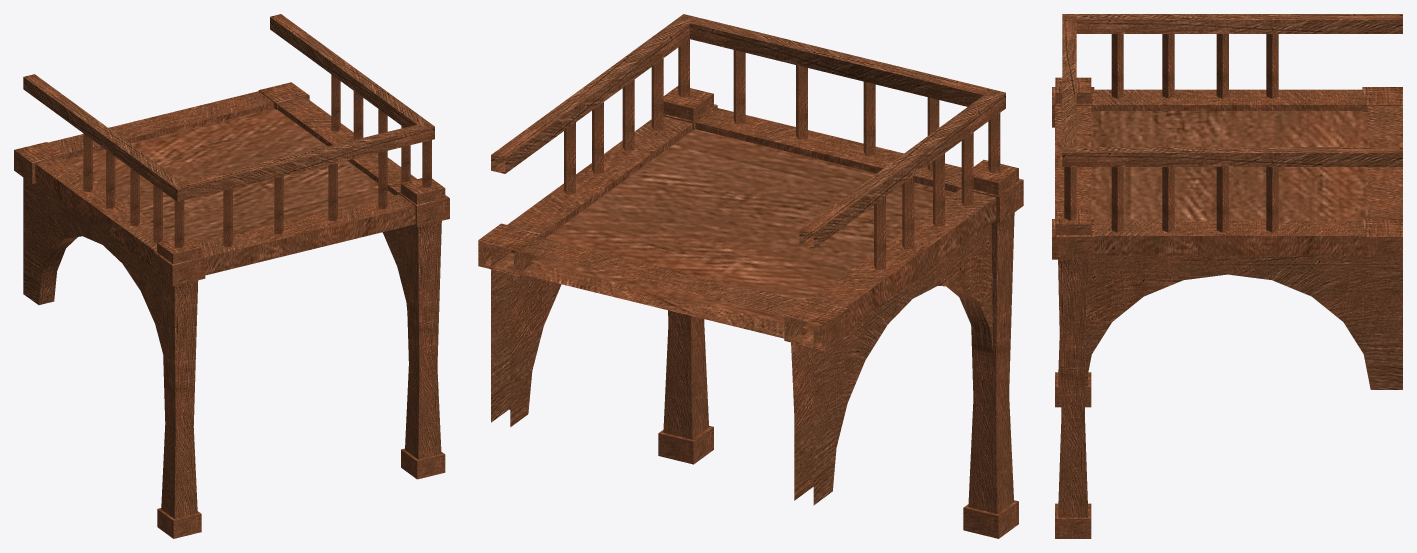
File: fanasty_mod_balcony01.fbx
3 renders of one model, left to right at view 1: azimuth 30°, elevation 25°; view 2: azimuth 150°, elevation 25°; view 3: azimuth 270°, elevation 25°, orthographic. The views are drawn at different scales.
Parts seen in each view (by area): view 1: balcony_01; view 2: balcony_01; view 3: balcony_01.
Part boxes in pixels (x1,y1,x2,y2): balcony_01: [14, 14, 449, 538]; balcony_01: [478, 14, 1023, 538]; balcony_01: [1052, 14, 1402, 538].
Bounding box in the file's own units: 3.69 × 4.39 × 3.66.
